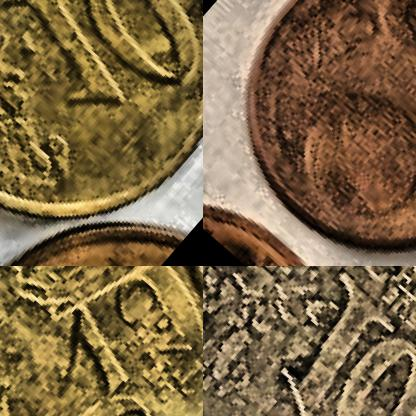coin: (203, 0, 415, 265), (0, 0, 202, 265), (203, 266, 415, 415), (0, 266, 202, 415)
